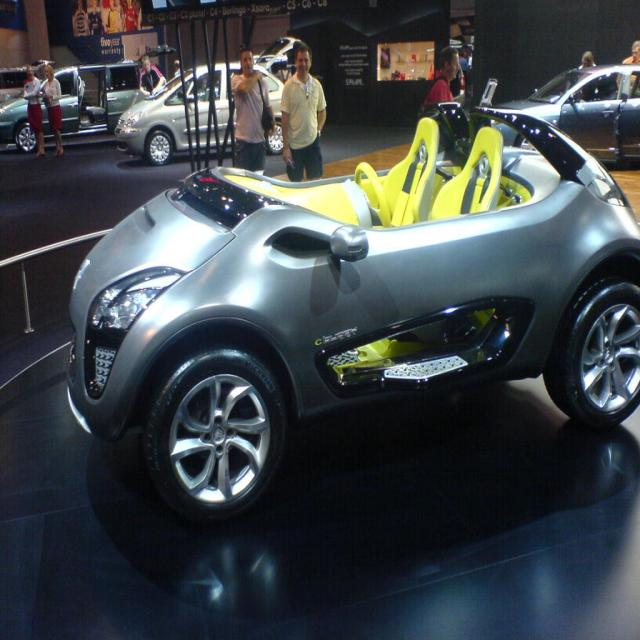car: (58, 103, 639, 534)
